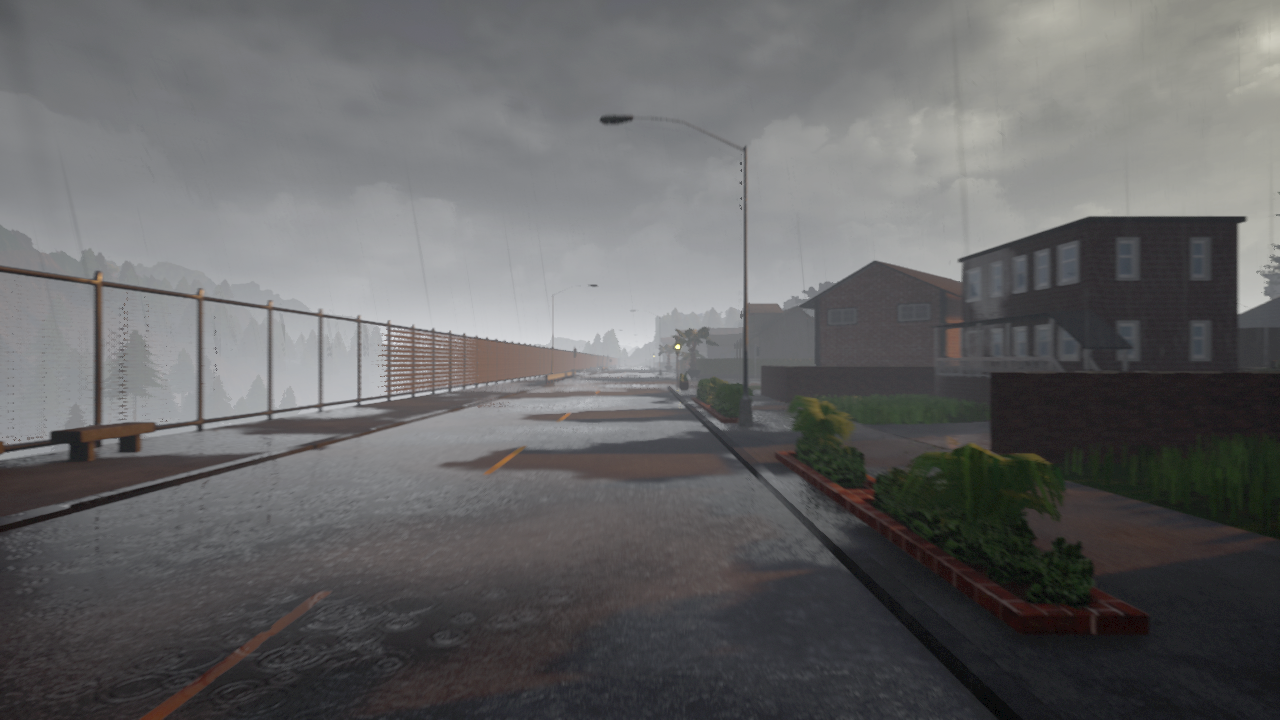yellow: (674, 337, 682, 355)
